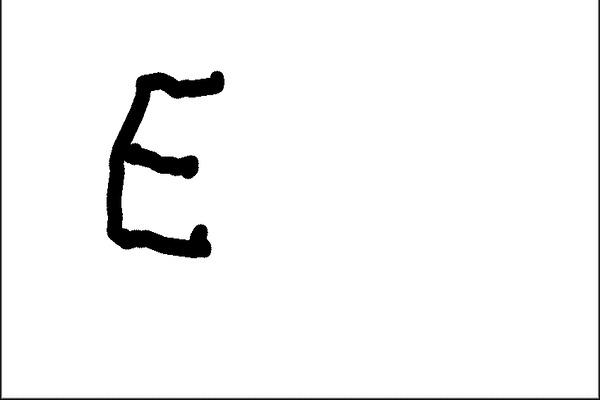E: (97, 64, 234, 264)
